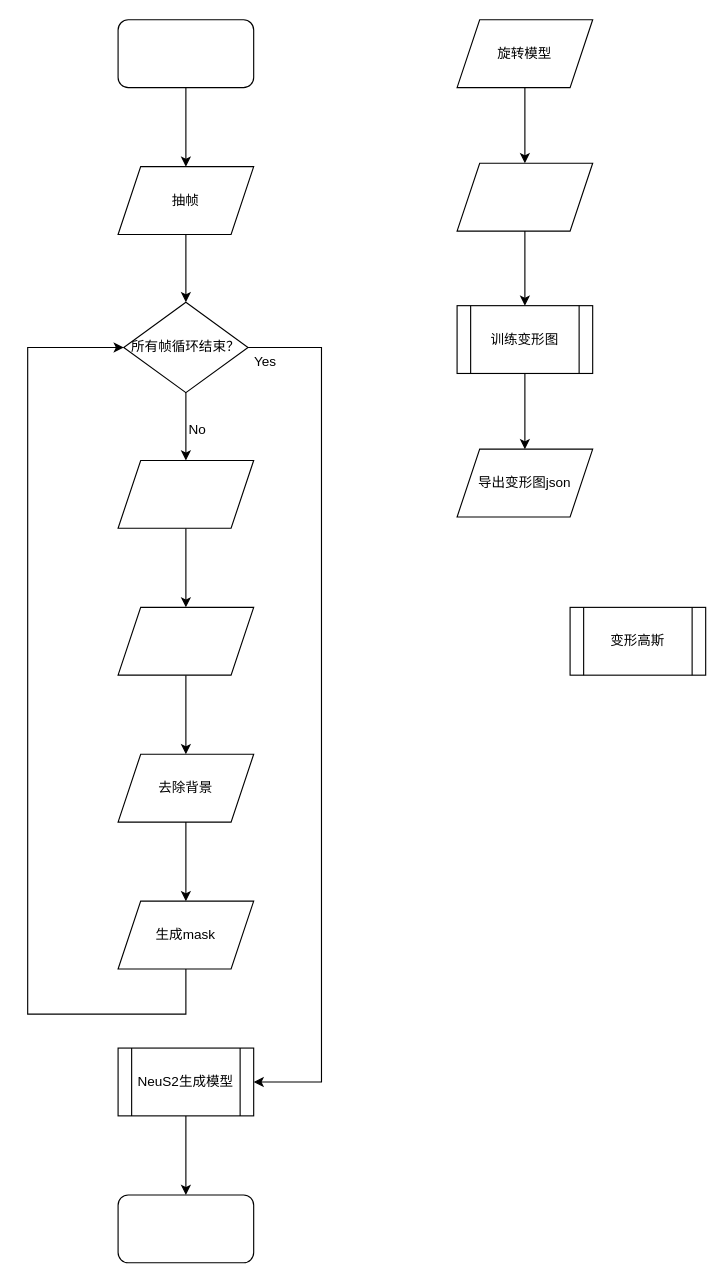
Image size: 725x1283. Some labels were removed from this diagram. The shapes that lost their labels are listed below. From the top down, each one's centre as x and y in pixels, then its label:
At (x=185, y=53): "视频".
At (x=524, y=196): "生成数据".
At (x=185, y=493): "校正畸变".
At (x=185, y=640): "构建相机参数".
At (x=185, y=1228): "obj模型".
